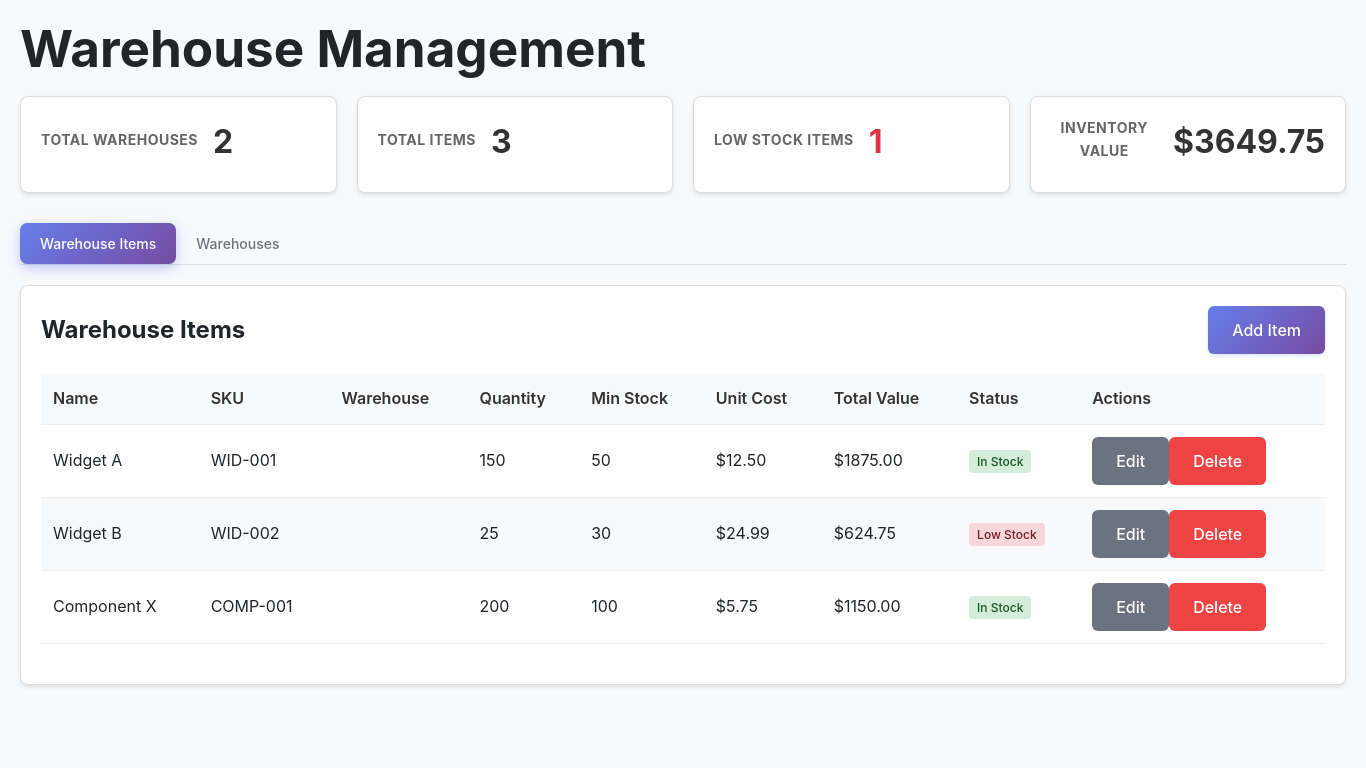
Test: Warehouse Component - REQ-301.1 › Warehouse Management › opens add warehouse form when add button is clicked
Expected: the heading "Warehouse Management" is shown, [20, 17, 646, 79]
Step 1. Click the button "Warehouses" → x=238, y=244, box [176, 223, 300, 264]
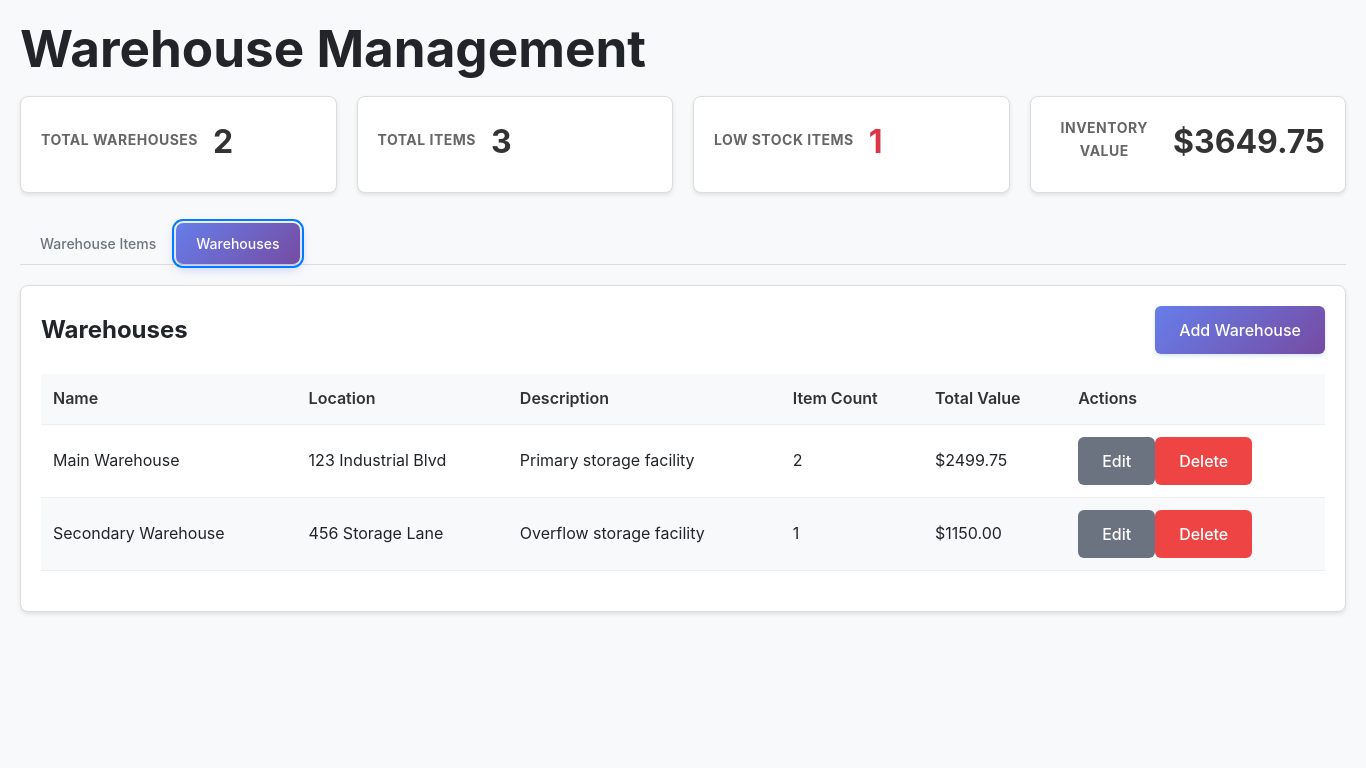
Now the button "Add Warehouse" is shown
Step 2. Click the button "Add Warehouse" → x=1240, y=330, box [1155, 306, 1325, 354]
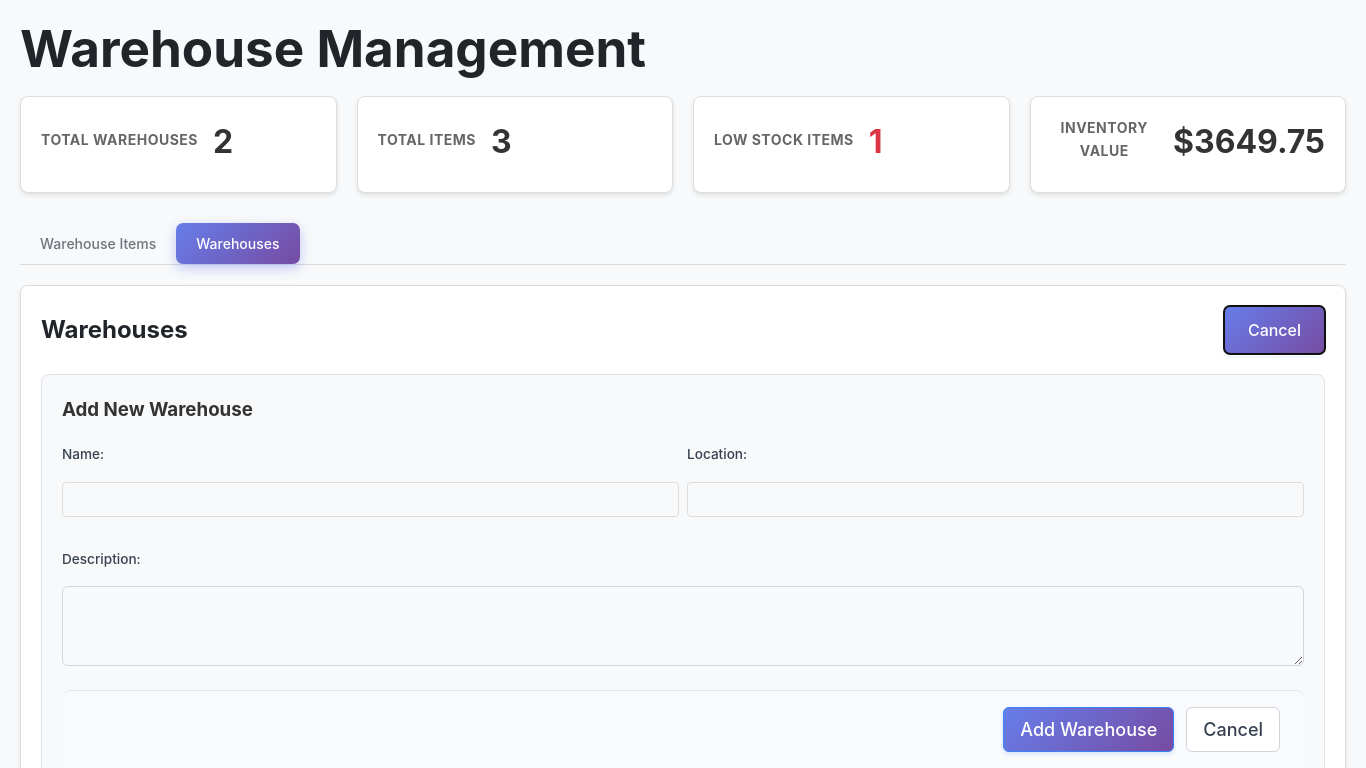
Now the heading "Add New Warehouse" is shown, box [62, 398, 253, 421]
